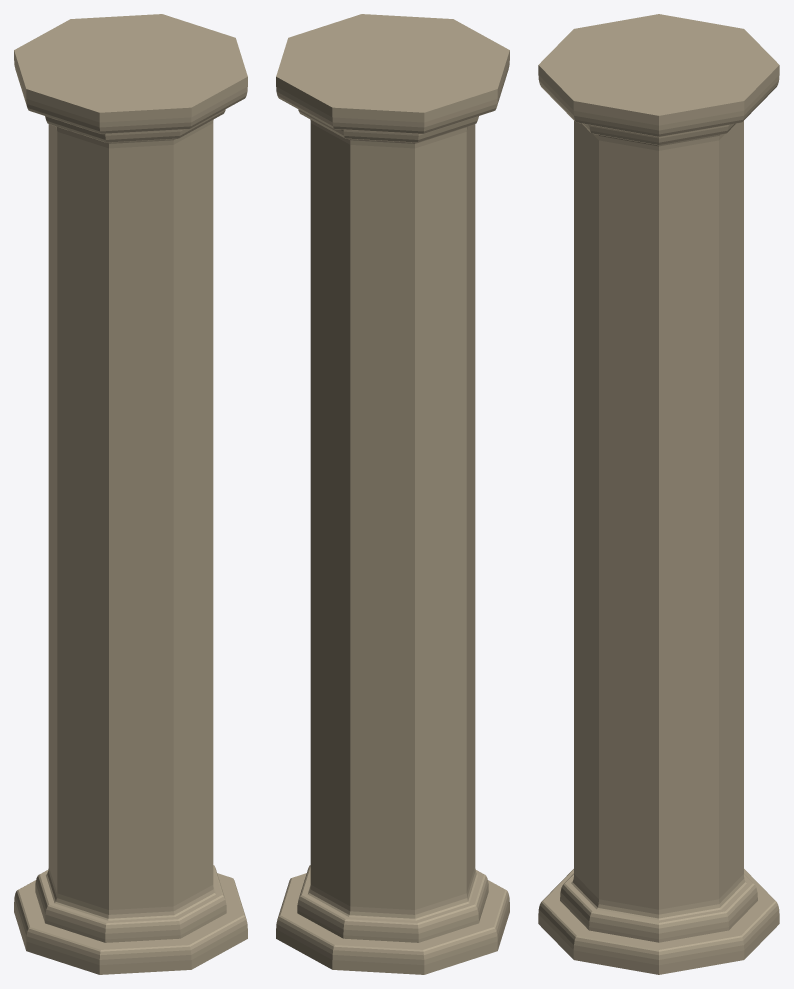
File: Monument_Column.fbx
The picture shows the model from 3 angles, left to right: view 1: azimuth 30°, elevation 25°; view 2: azimuth 150°, elevation 25°; view 3: azimuth 270°, elevation 25°; orthographic projection.
Parts seen in each view (by area): view 1: Monument_Column; view 2: Monument_Column; view 3: Monument_Column.
Part boxes in pixels (x1=…): Monument_Column: x1=14, y1=14, x2=247, y2=974; Monument_Column: x1=276, y1=14, x2=509, y2=974; Monument_Column: x1=538, y1=14, x2=779, y2=974.
Bounding box in the file's own units: 79.83 × 79.83 × 314.
